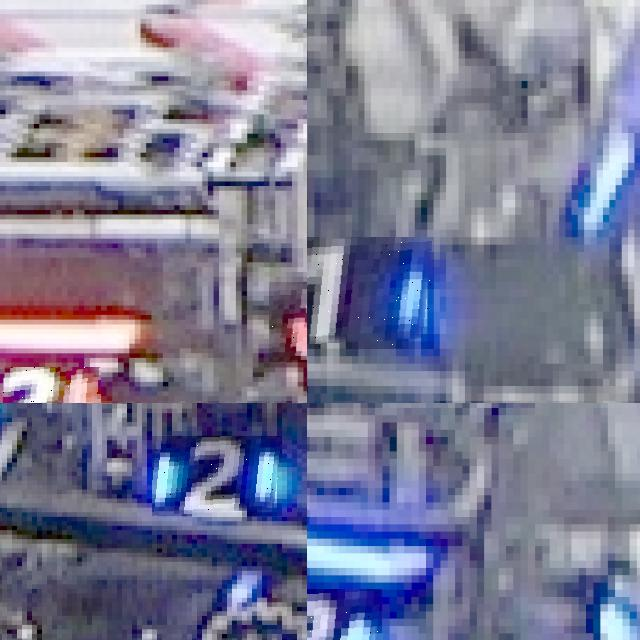B1: (307, 237, 433, 348)
B2: (152, 436, 282, 516), (307, 589, 382, 640)
R2: (0, 367, 101, 403), (269, 281, 307, 362)
